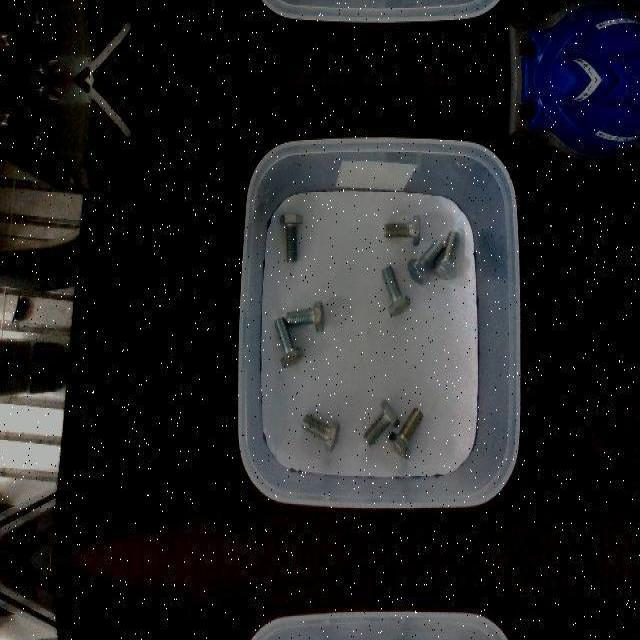screw: (388, 404, 425, 458), (363, 398, 400, 446), (407, 240, 443, 286), (301, 412, 340, 452), (382, 265, 411, 317), (275, 316, 303, 368), (433, 229, 462, 279), (285, 300, 326, 332), (384, 213, 420, 247), (279, 213, 303, 263)
